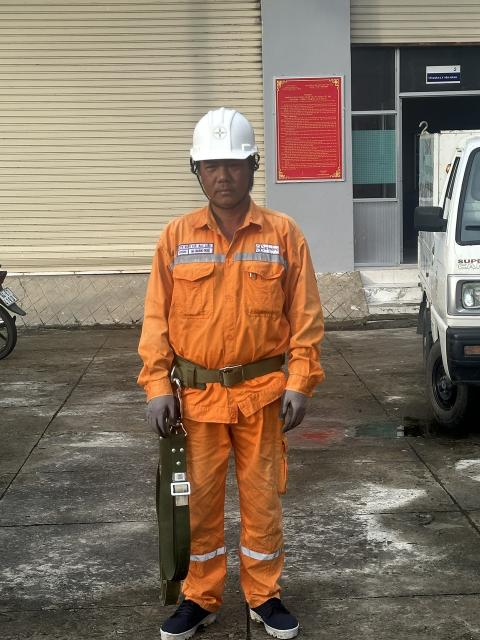gloves: (137, 392, 188, 438), (271, 387, 312, 433)
harness: (145, 345, 310, 395)
helmet: (180, 107, 275, 168)
shoes: (248, 586, 318, 637), (161, 595, 238, 640)
